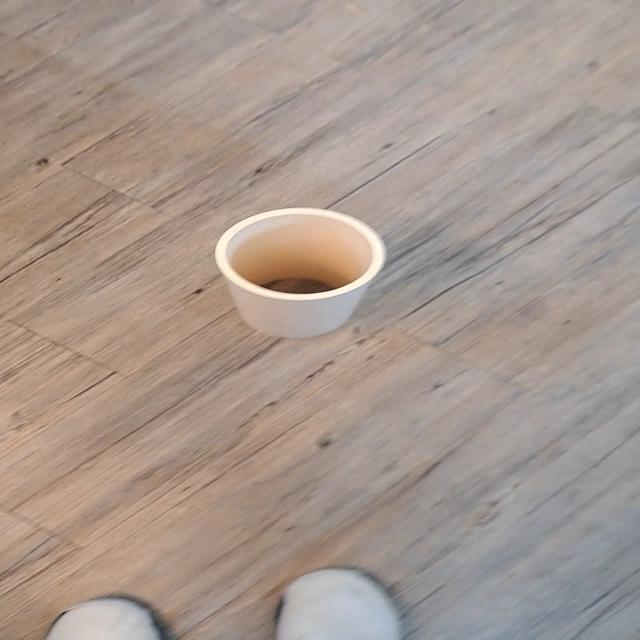CORAL: (172, 192, 404, 346)
